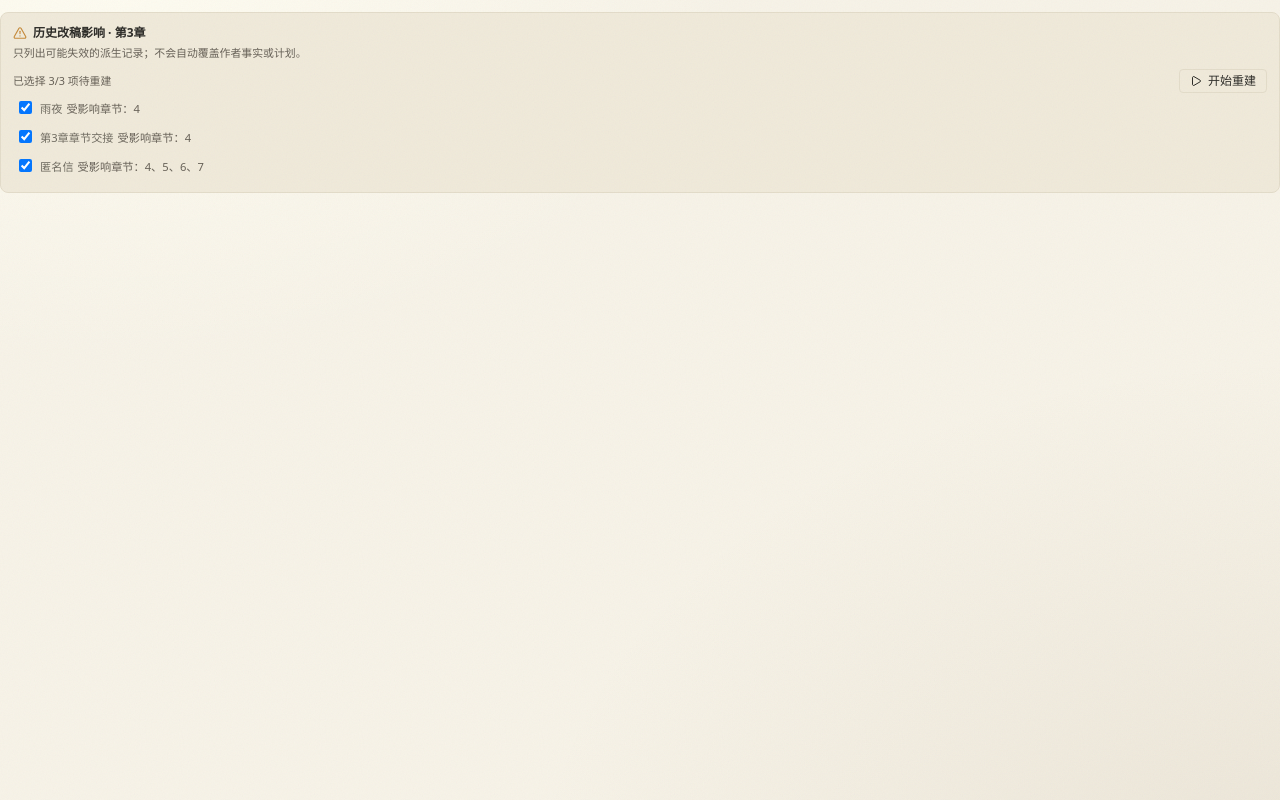
Test: ContinuityImpactPanel › lists source-bound downstream records and allows selective rebuild selection
Expected: the element that starts with "历史改稿影响 · 第3章" is shown, [0, 12, 1279, 193]
Step 1. Click the checkbox named "雨夜" → {"x": 26, "y": 108}, box [19, 101, 32, 114]
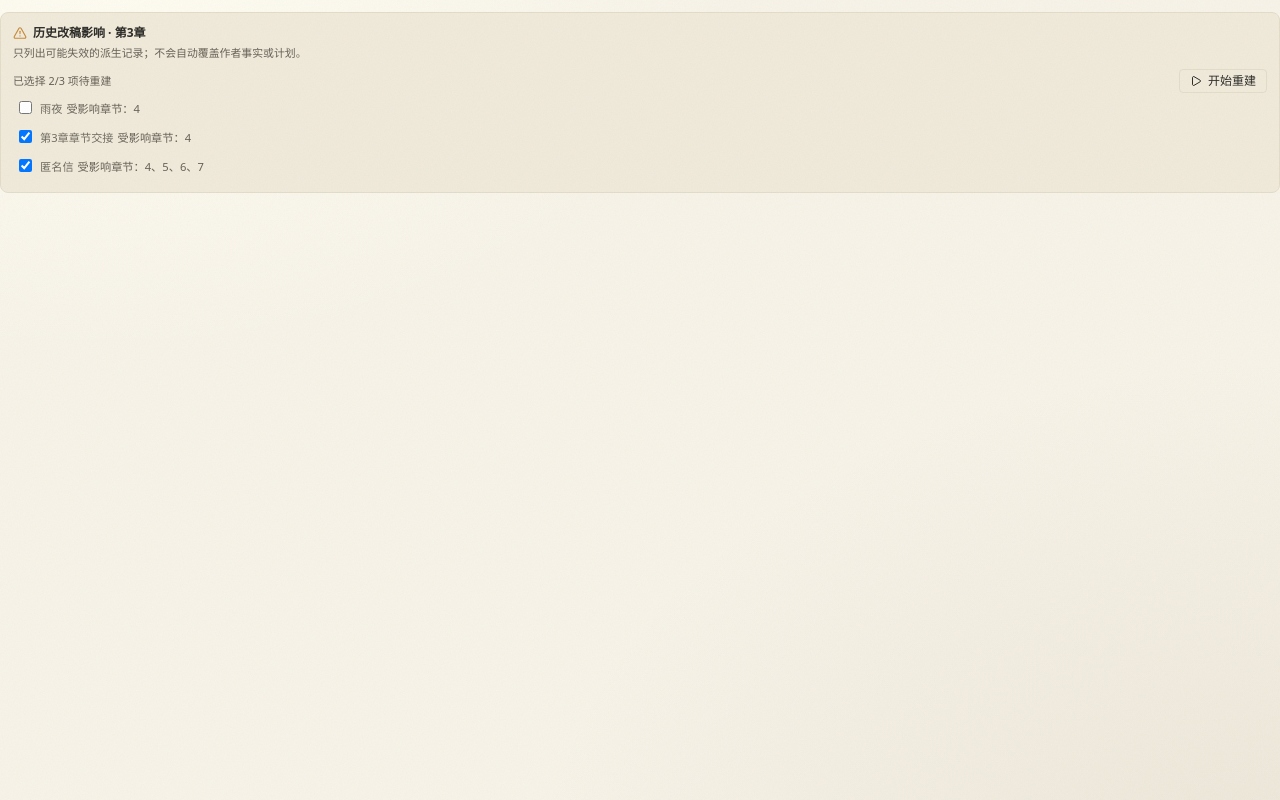
Result: the text "已选择 2/3 项待重建" is shown at [13, 73, 111, 90]
